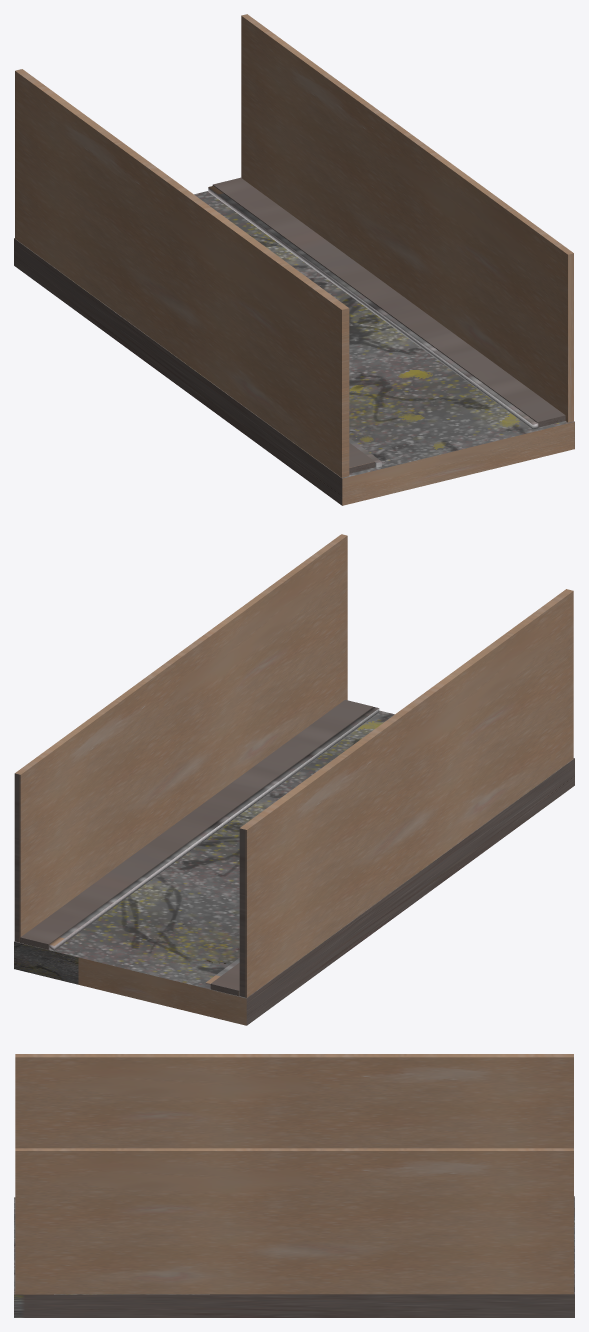
File: Hall_01_002.fbx
3 views of the same model, one above another, from view 1: azimuth 30°, elevation 25°; view 2: azimuth 150°, elevation 25°; view 3: azimuth 270°, elevation 25° (orthographic). The views are drawn at different scales.
Visible parts, largest first — view 1: Hall_01_002; view 2: Hall_01_002; view 3: Hall_01_002.
Boxes of the visible parts, left/top/right/bottom form: Hall_01_002: left=14, top=14, right=574, bottom=505; Hall_01_002: left=14, top=534, right=574, bottom=1025; Hall_01_002: left=14, top=1054, right=574, bottom=1317.
Bounding box in the file's own units: 1023 × 820 × 2499.
